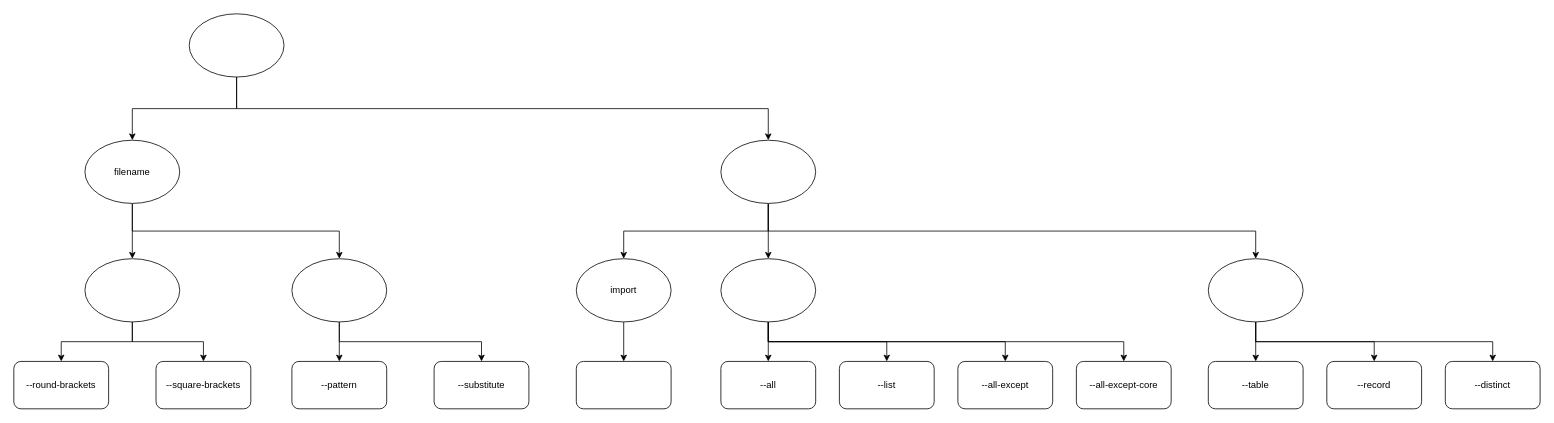
This 1554x423 diagram has some shape labels left out. Here are the shapes that lost their labels. From the top down, the box of each, then its label:
(188, 13, 284, 77): MediaParser
(720, 139, 816, 203): metadata
(84, 258, 180, 322): normalize
(291, 258, 387, 322): replace
(720, 258, 816, 322): delete
(1208, 258, 1303, 322): view
(576, 361, 671, 409): --from-file-and-directory
